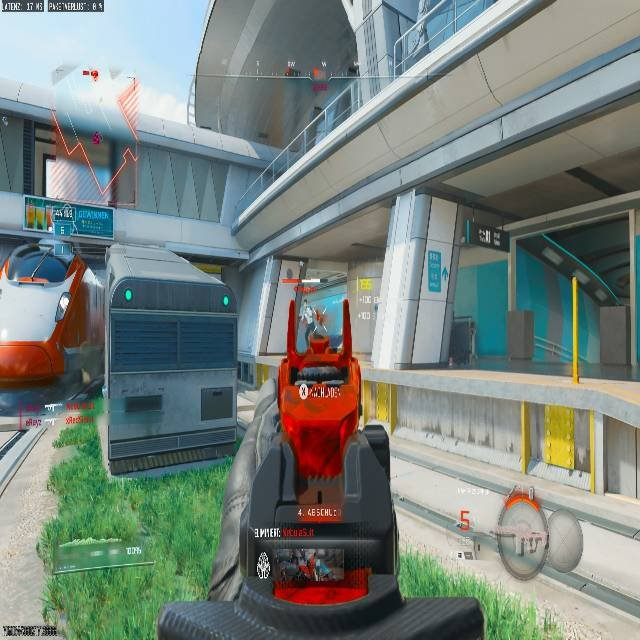head: (306, 326, 330, 354)
